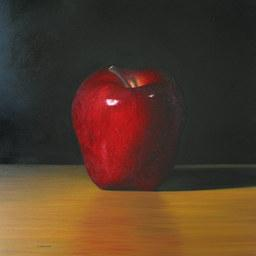apple: (69, 67, 186, 193)
